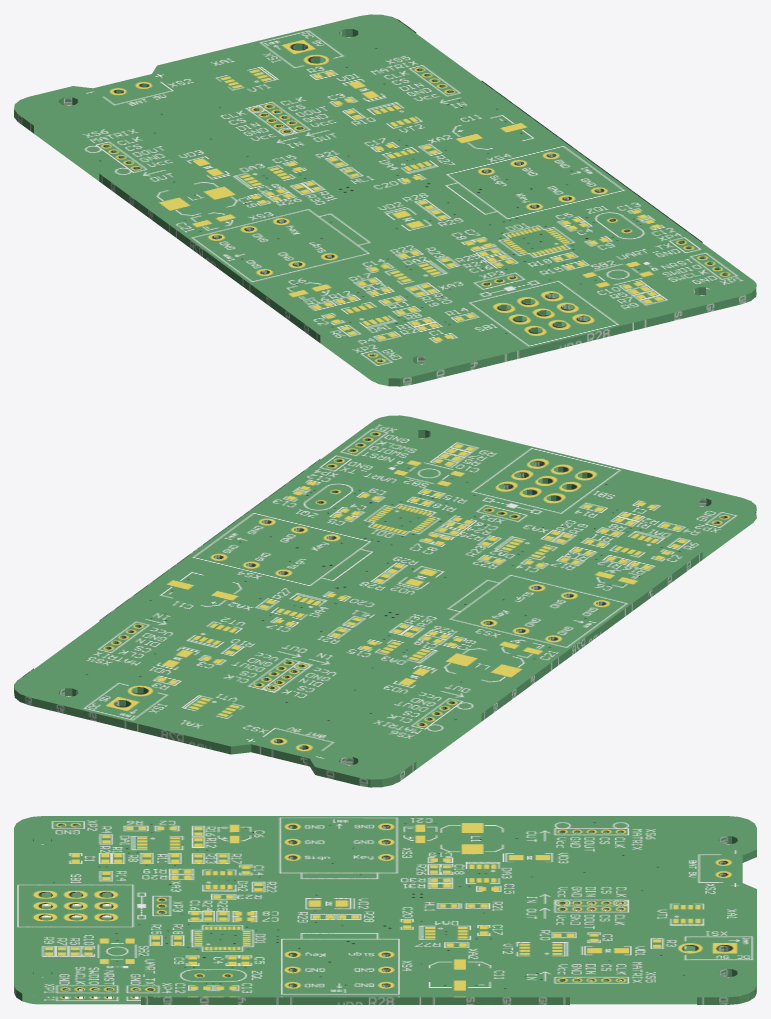
Rendered from pcb_w_texture_board.dae.
3 renders of one model, top to bottom at view 1: azimuth 30°, elevation 25°; view 2: azimuth 150°, elevation 25°; view 3: azimuth 270°, elevation 25°, orthographic. The views are drawn at different scales.
Visible parts, largest first — view 1: board; view 2: board; view 3: board.
Boxes of the visible parts, x1=… form: board: x1=14, y1=14, x2=756, y2=386; board: x1=14, y1=415, x2=756, y2=787; board: x1=14, y1=816, x2=756, y2=1004.
Size of the model in its own units: 0.075 by 0.13 by 0.0015.
1 material, 1 textured.
